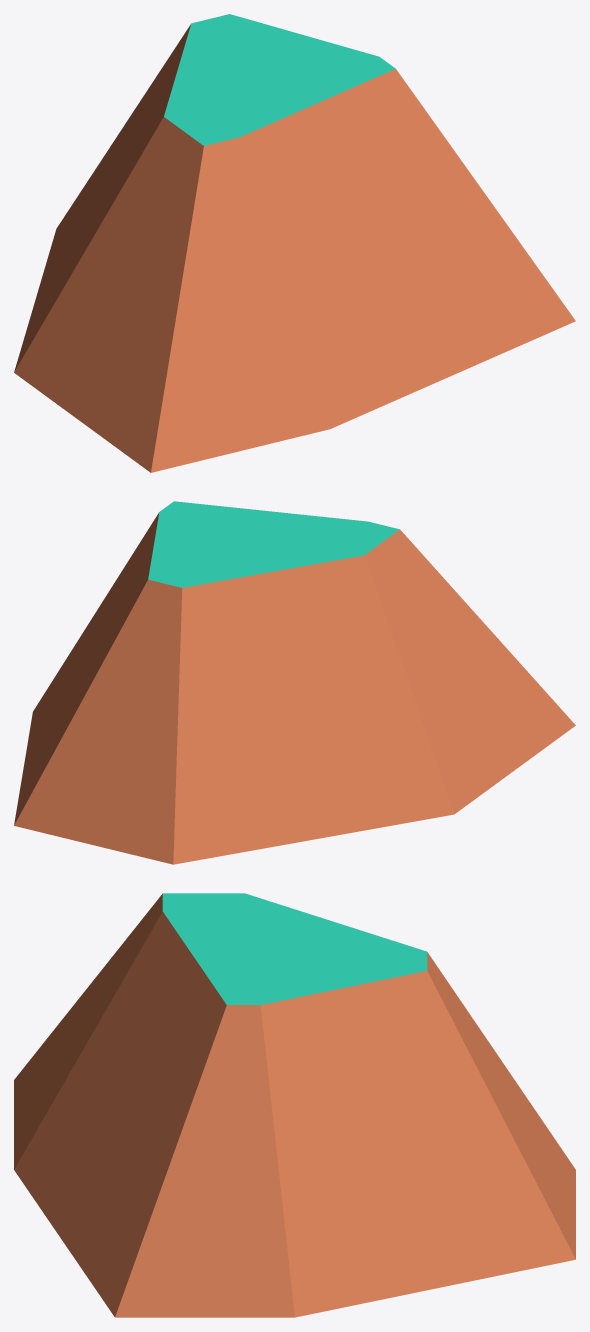
The model's file is rock_smallB.dae.
The picture shows the model from 3 angles, top to bottom: view 1: azimuth 30°, elevation 25°; view 2: azimuth 150°, elevation 25°; view 3: azimuth 270°, elevation 25°; orthographic projection. The views are drawn at different scales.
Visible parts, largest first — view 1: rock_smallB; view 2: rock_smallB; view 3: rock_smallB.
Boxes of the visible parts, x1=… form: rock_smallB: x1=14, y1=14, x2=575, y2=472; rock_smallB: x1=14, y1=501, x2=575, y2=864; rock_smallB: x1=14, y1=893, x2=575, y2=1317.
Size of the model in its own units: 0.3608 by 0.1768 by 0.3608.
